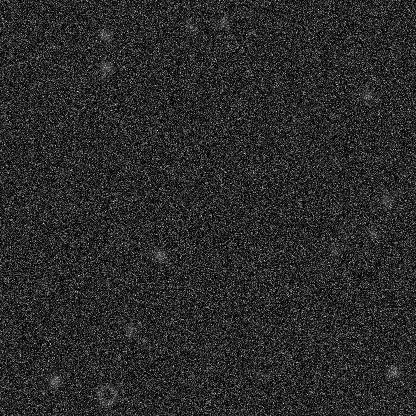Ring: (95, 382, 119, 406)
Spot: (98, 59, 114, 75), (183, 19, 199, 35), (46, 372, 62, 388), (384, 363, 400, 379), (358, 87, 374, 103), (326, 241, 342, 257), (151, 246, 167, 262), (364, 225, 380, 241), (378, 192, 394, 208), (96, 27, 112, 43), (215, 14, 231, 30), (257, 366, 273, 382), (85, 357, 101, 373), (123, 321, 139, 337)
